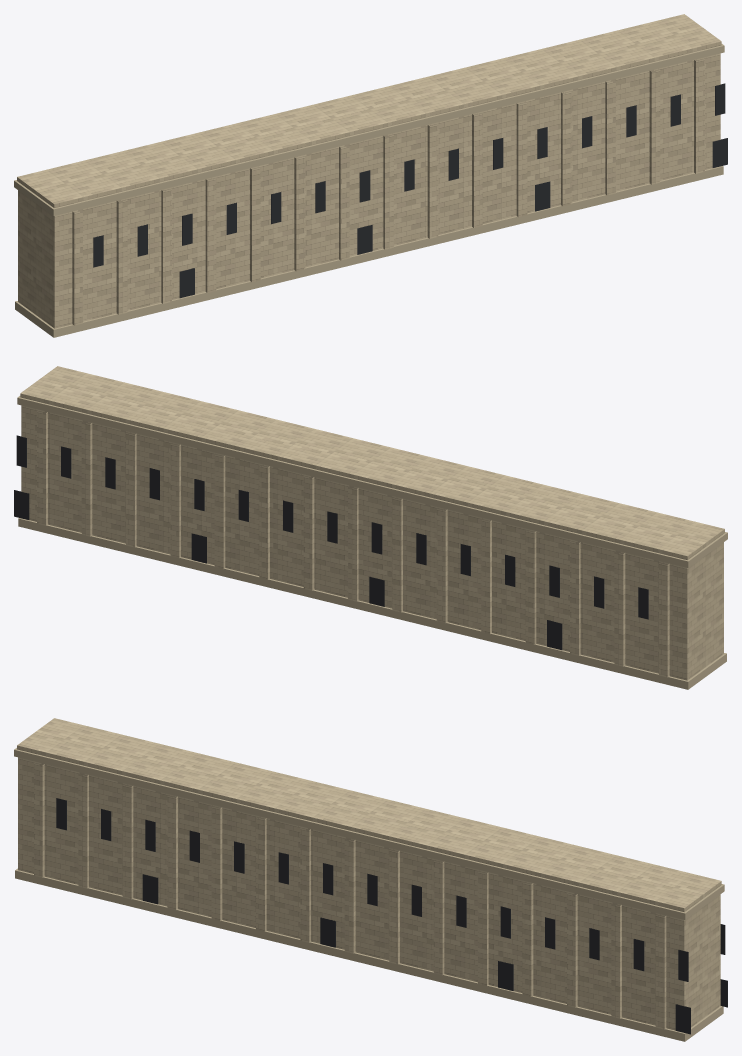
Rendered from soldier_field_wing.glb.
3 views of the same model, one above another, from view 1: azimuth 30°, elevation 25°; view 2: azimuth 150°, elevation 25°; view 3: azimuth 330°, elevation 25° (orthographic).
Parts seen in each view (by area): view 1: soldier_field_wing; view 2: soldier_field_wing; view 3: soldier_field_wing.
Boxes of the visible parts, <box> form: soldier_field_wing: <box>14,14,727,337</box>; soldier_field_wing: <box>14,366,727,689</box>; soldier_field_wing: <box>14,718,727,1041</box>.
Bounding box in the file's own units: 106 × 20 × 11.
2 materials, 2 textured.
